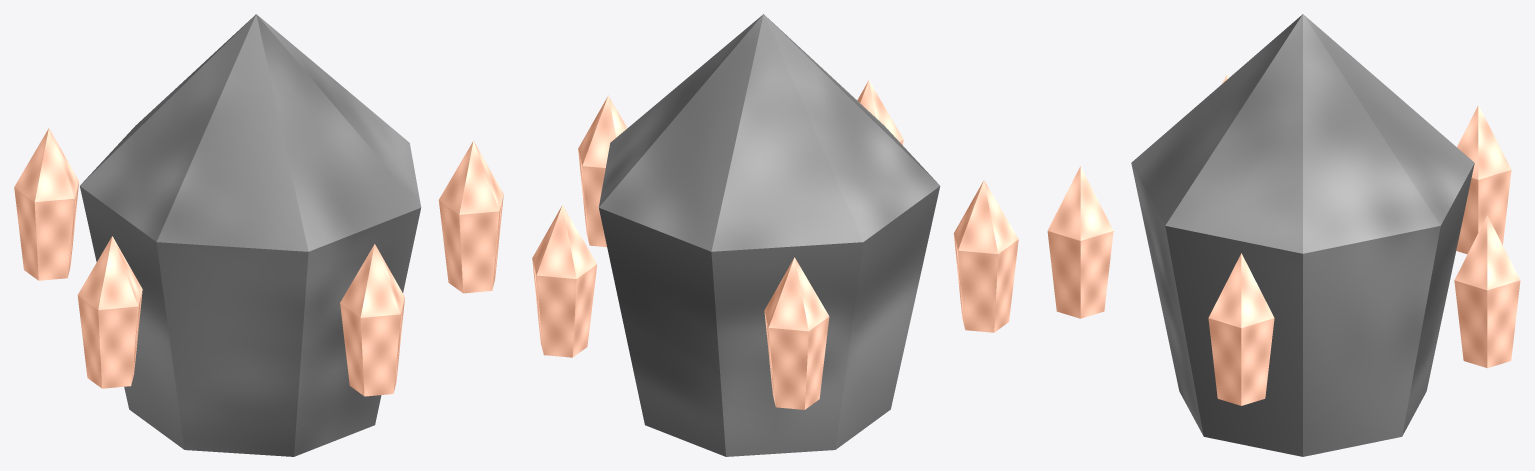
File: deep-fracture-creature-AnnoyanceWisp-fire.glb
The picture shows the model from 3 angles, left to right: view 1: azimuth 30°, elevation 25°; view 2: azimuth 150°, elevation 25°; view 3: azimuth 270°, elevation 25°; orthographic projection.
Parts seen in each view (by area): view 1: shell, orbit-shard-2, orbit-shard-3, orbit-shard-0, orbit-shard-1; view 2: shell, orbit-shard-3, orbit-shard-2, orbit-shard-4, orbit-shard-0, orbit-shard-1; view 3: shell, orbit-shard-0, orbit-shard-1, orbit-shard-4, orbit-shard-3.
Part boxes in pixels (left/top/right/bottom): shell: left=80, top=14, right=421, bottom=456; orbit-shard-2: left=77, top=236, right=142, bottom=388; orbit-shard-3: left=14, top=128, right=79, bottom=280; orbit-shard-0: left=438, top=141, right=503, bottom=293; orbit-shard-1: left=340, top=244, right=404, bottom=396; shell: left=598, top=14, right=940, bottom=456; orbit-shard-3: left=764, top=257, right=829, bottom=409; orbit-shard-2: left=953, top=180, right=1018, bottom=332; orbit-shard-4: left=532, top=205, right=597, bottom=357; orbit-shard-0: left=578, top=95, right=627, bottom=247; orbit-shard-1: left=857, top=80, right=903, bottom=145; shell: left=1131, top=14, right=1474, bottom=456; orbit-shard-0: left=1208, top=253, right=1274, bottom=405; orbit-shard-1: left=1047, top=166, right=1113, bottom=318; orbit-shard-4: left=1454, top=215, right=1520, bottom=368; orbit-shard-3: left=1456, top=105, right=1511, bottom=254.
Bounding box in the file's own units: 1.05 × 0.9676 × 1.02.
Materials: 3 (3 with a texture image).
